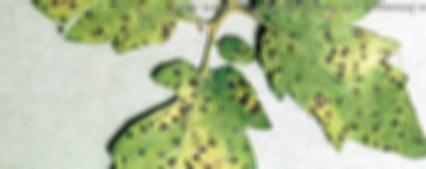Tomato leaf bacterial spot: (256, 0, 426, 161), (88, 55, 272, 169), (25, 0, 186, 57)
